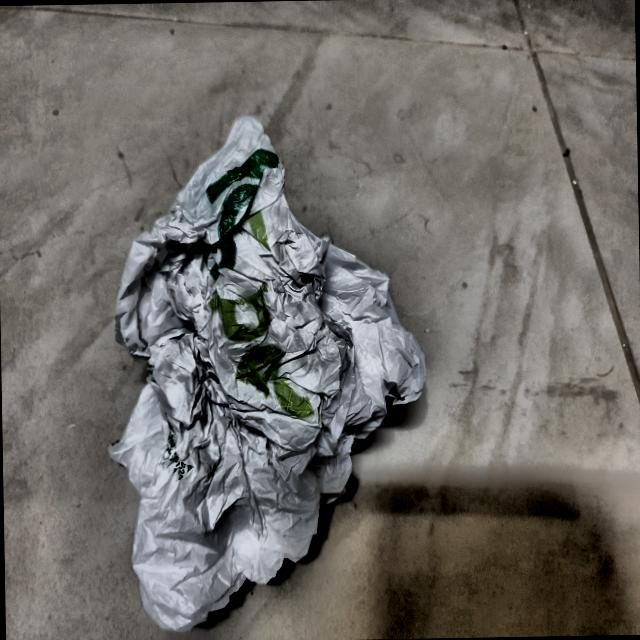plastic bag: (90, 93, 436, 638)
